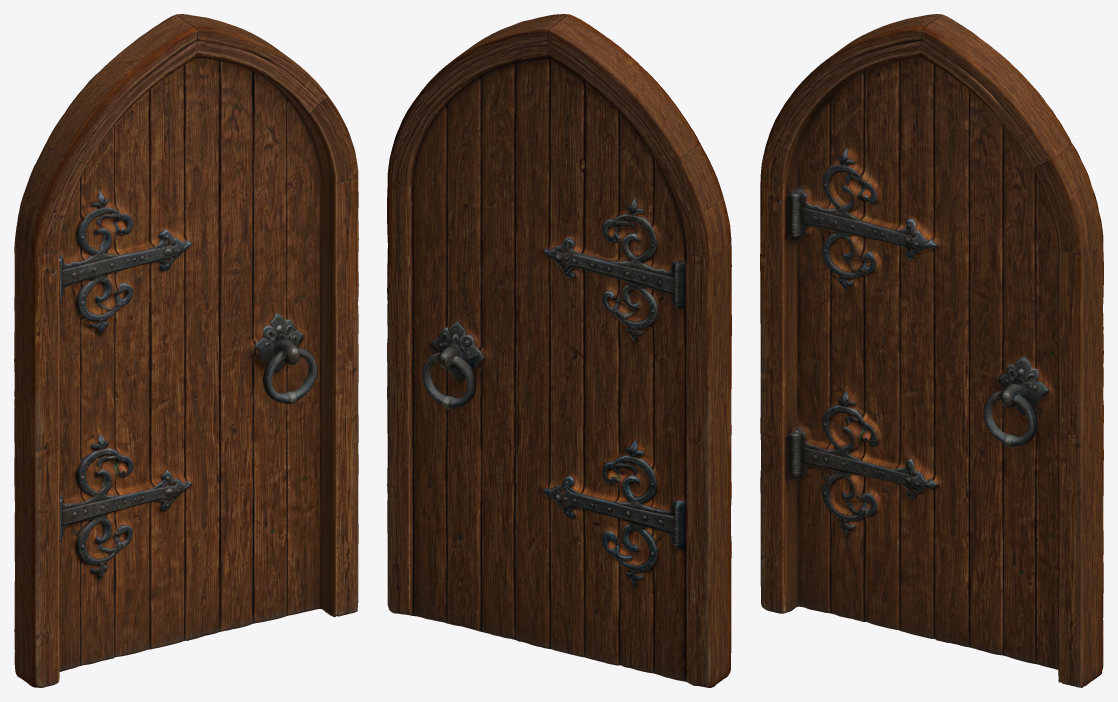
File: arched-door.glb
3 views of the same model, side by side, from view 1: azimuth 30°, elevation 25°; view 2: azimuth 150°, elevation 25°; view 3: azimuth 330°, elevation 25° (orthographic).
Parts seen in each view (by area): view 1: tripo_node_772127e2; view 2: tripo_node_772127e2; view 3: tripo_node_772127e2.
Boxes of the visible parts, box(x1,y1,x2,y2) form: tripo_node_772127e2: box(14, 14, 358, 687); tripo_node_772127e2: box(387, 14, 731, 687); tripo_node_772127e2: box(760, 14, 1103, 687).
Size of the model in its own units: 53.32 by 97.77 by 12.44.
1 material, 1 textured.
